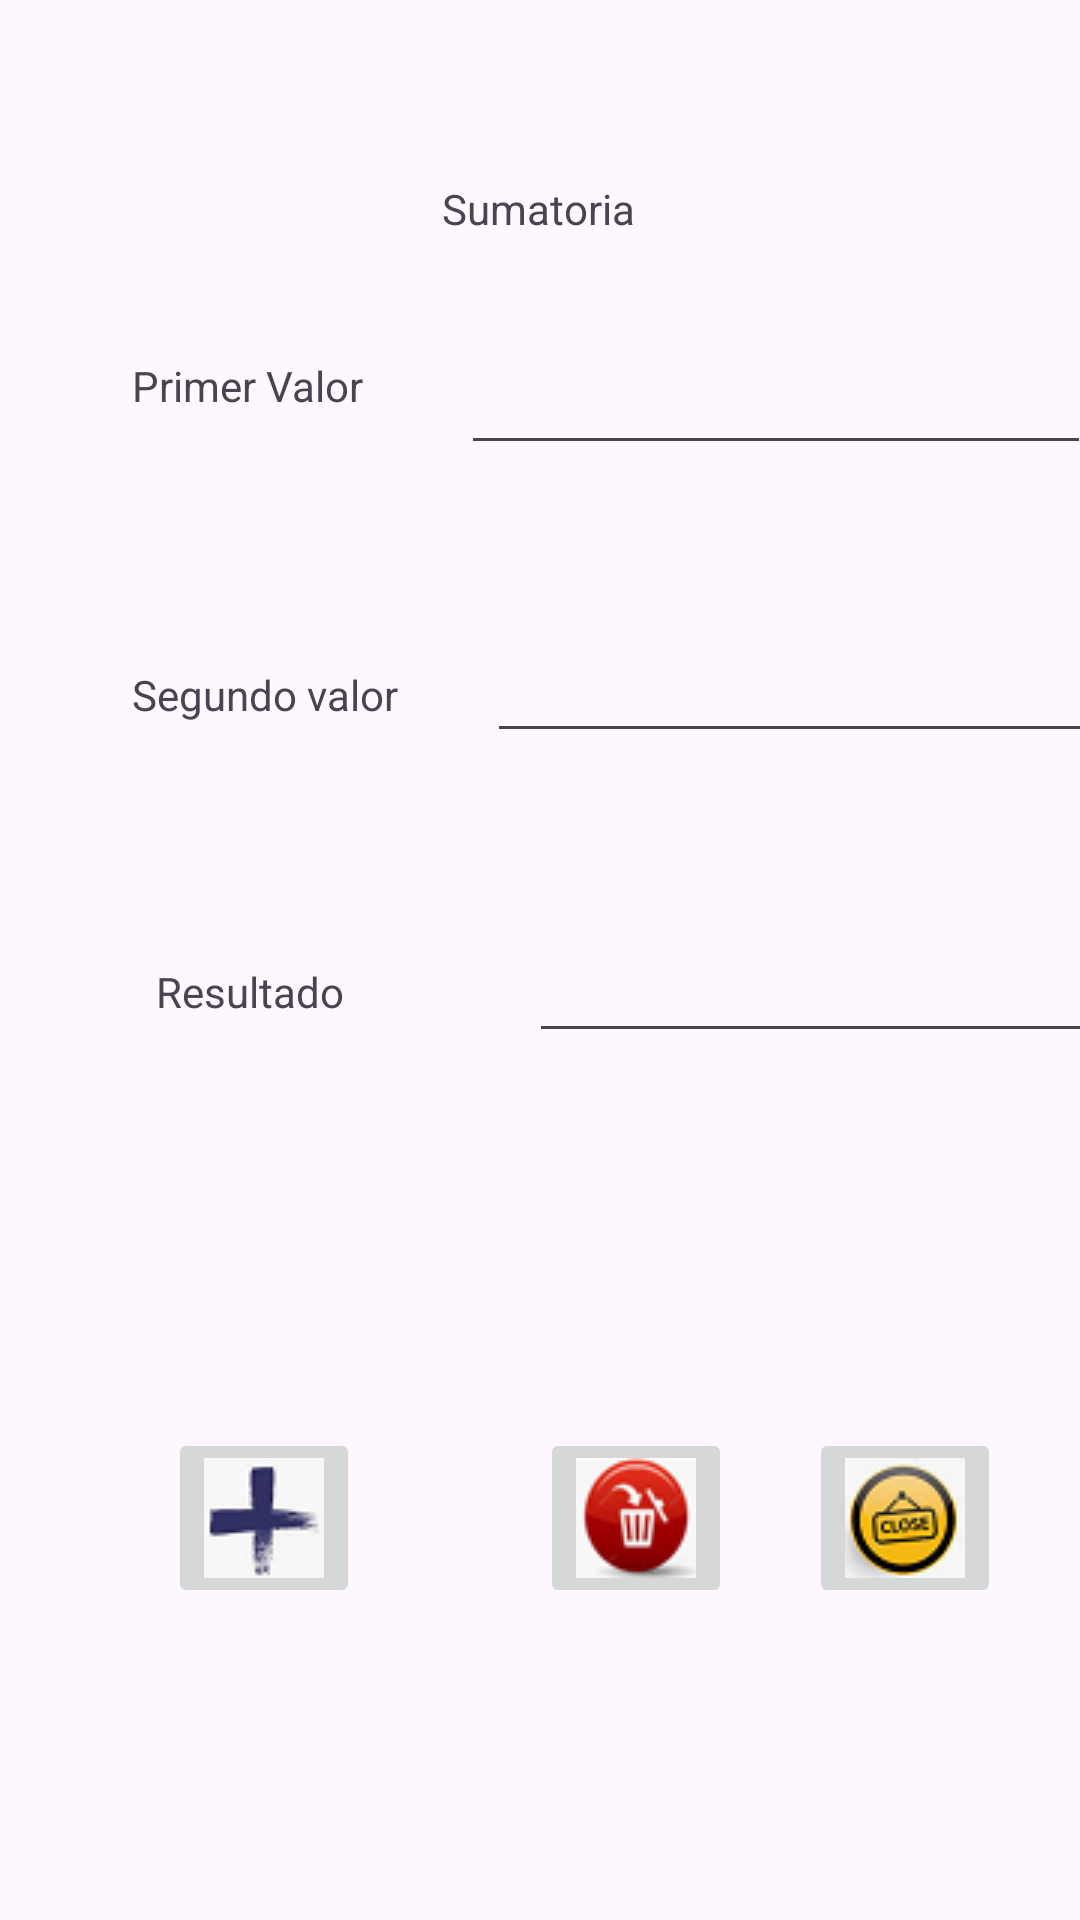

Where to tap for icons on this 1080 × 1920 app screen, as [x,y]:
borrar: [636,1518]
sumar: [264,1518]
